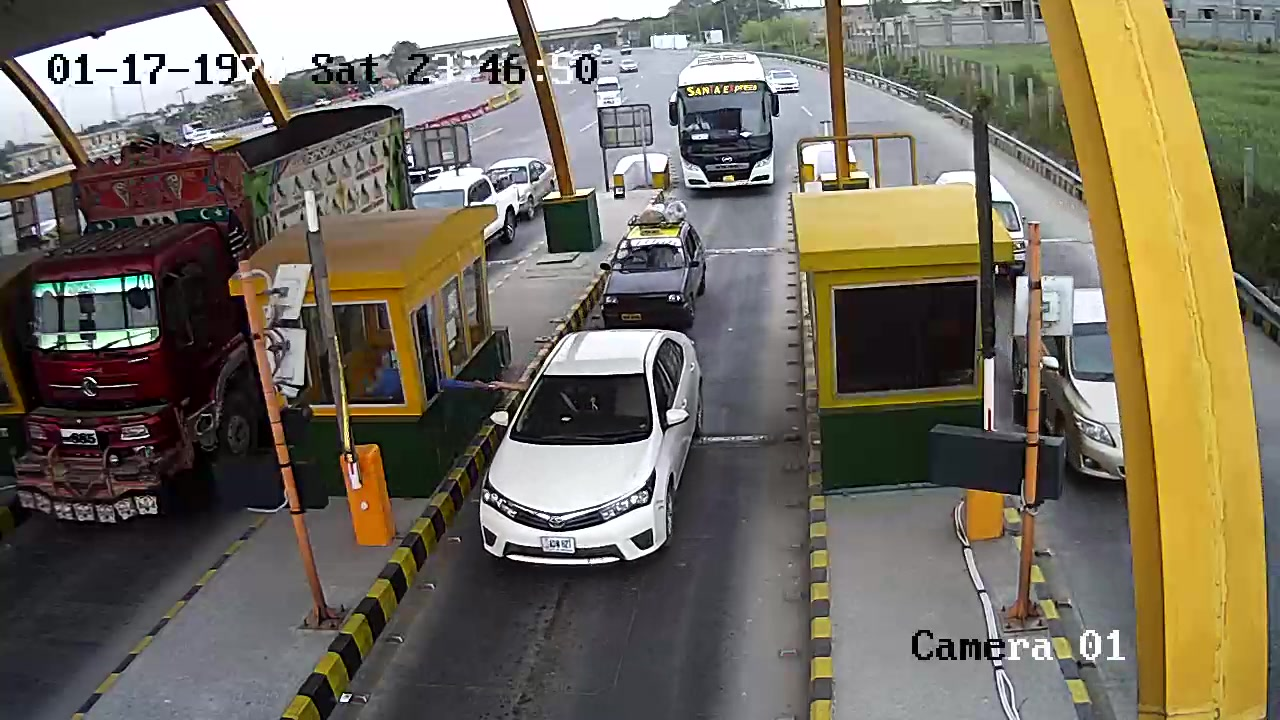F1: (466, 329, 720, 574)
